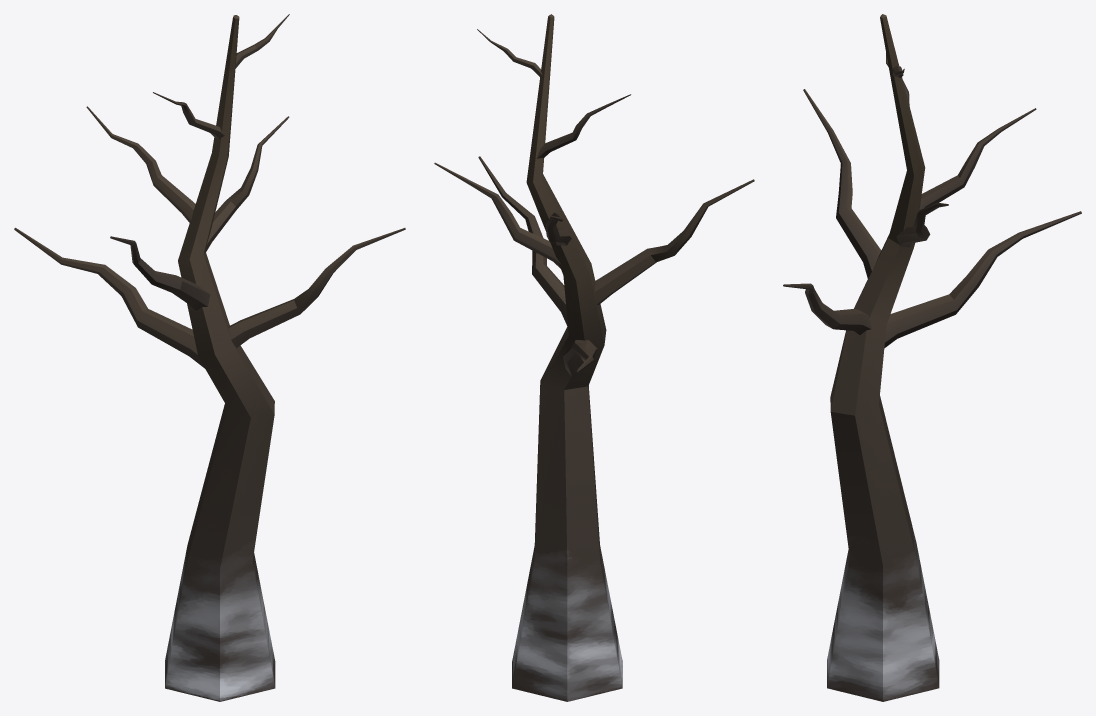
The model's file is SM_LeaflessTree_01.fbx.
3 renders of one model, left to right at view 1: azimuth 30°, elevation 25°; view 2: azimuth 150°, elevation 25°; view 3: azimuth 270°, elevation 25°, orthographic.
Visible parts, largest first — view 1: SM_LeaflessTree_01; view 2: SM_LeaflessTree_01; view 3: SM_LeaflessTree_01.
Boxes of the visible parts, bbox=[...] form: SM_LeaflessTree_01: bbox=[14, 14, 405, 701]; SM_LeaflessTree_01: bbox=[434, 14, 754, 701]; SM_LeaflessTree_01: bbox=[783, 14, 1081, 701].
Bounding box in the file's own units: 487 × 1070 × 434.
